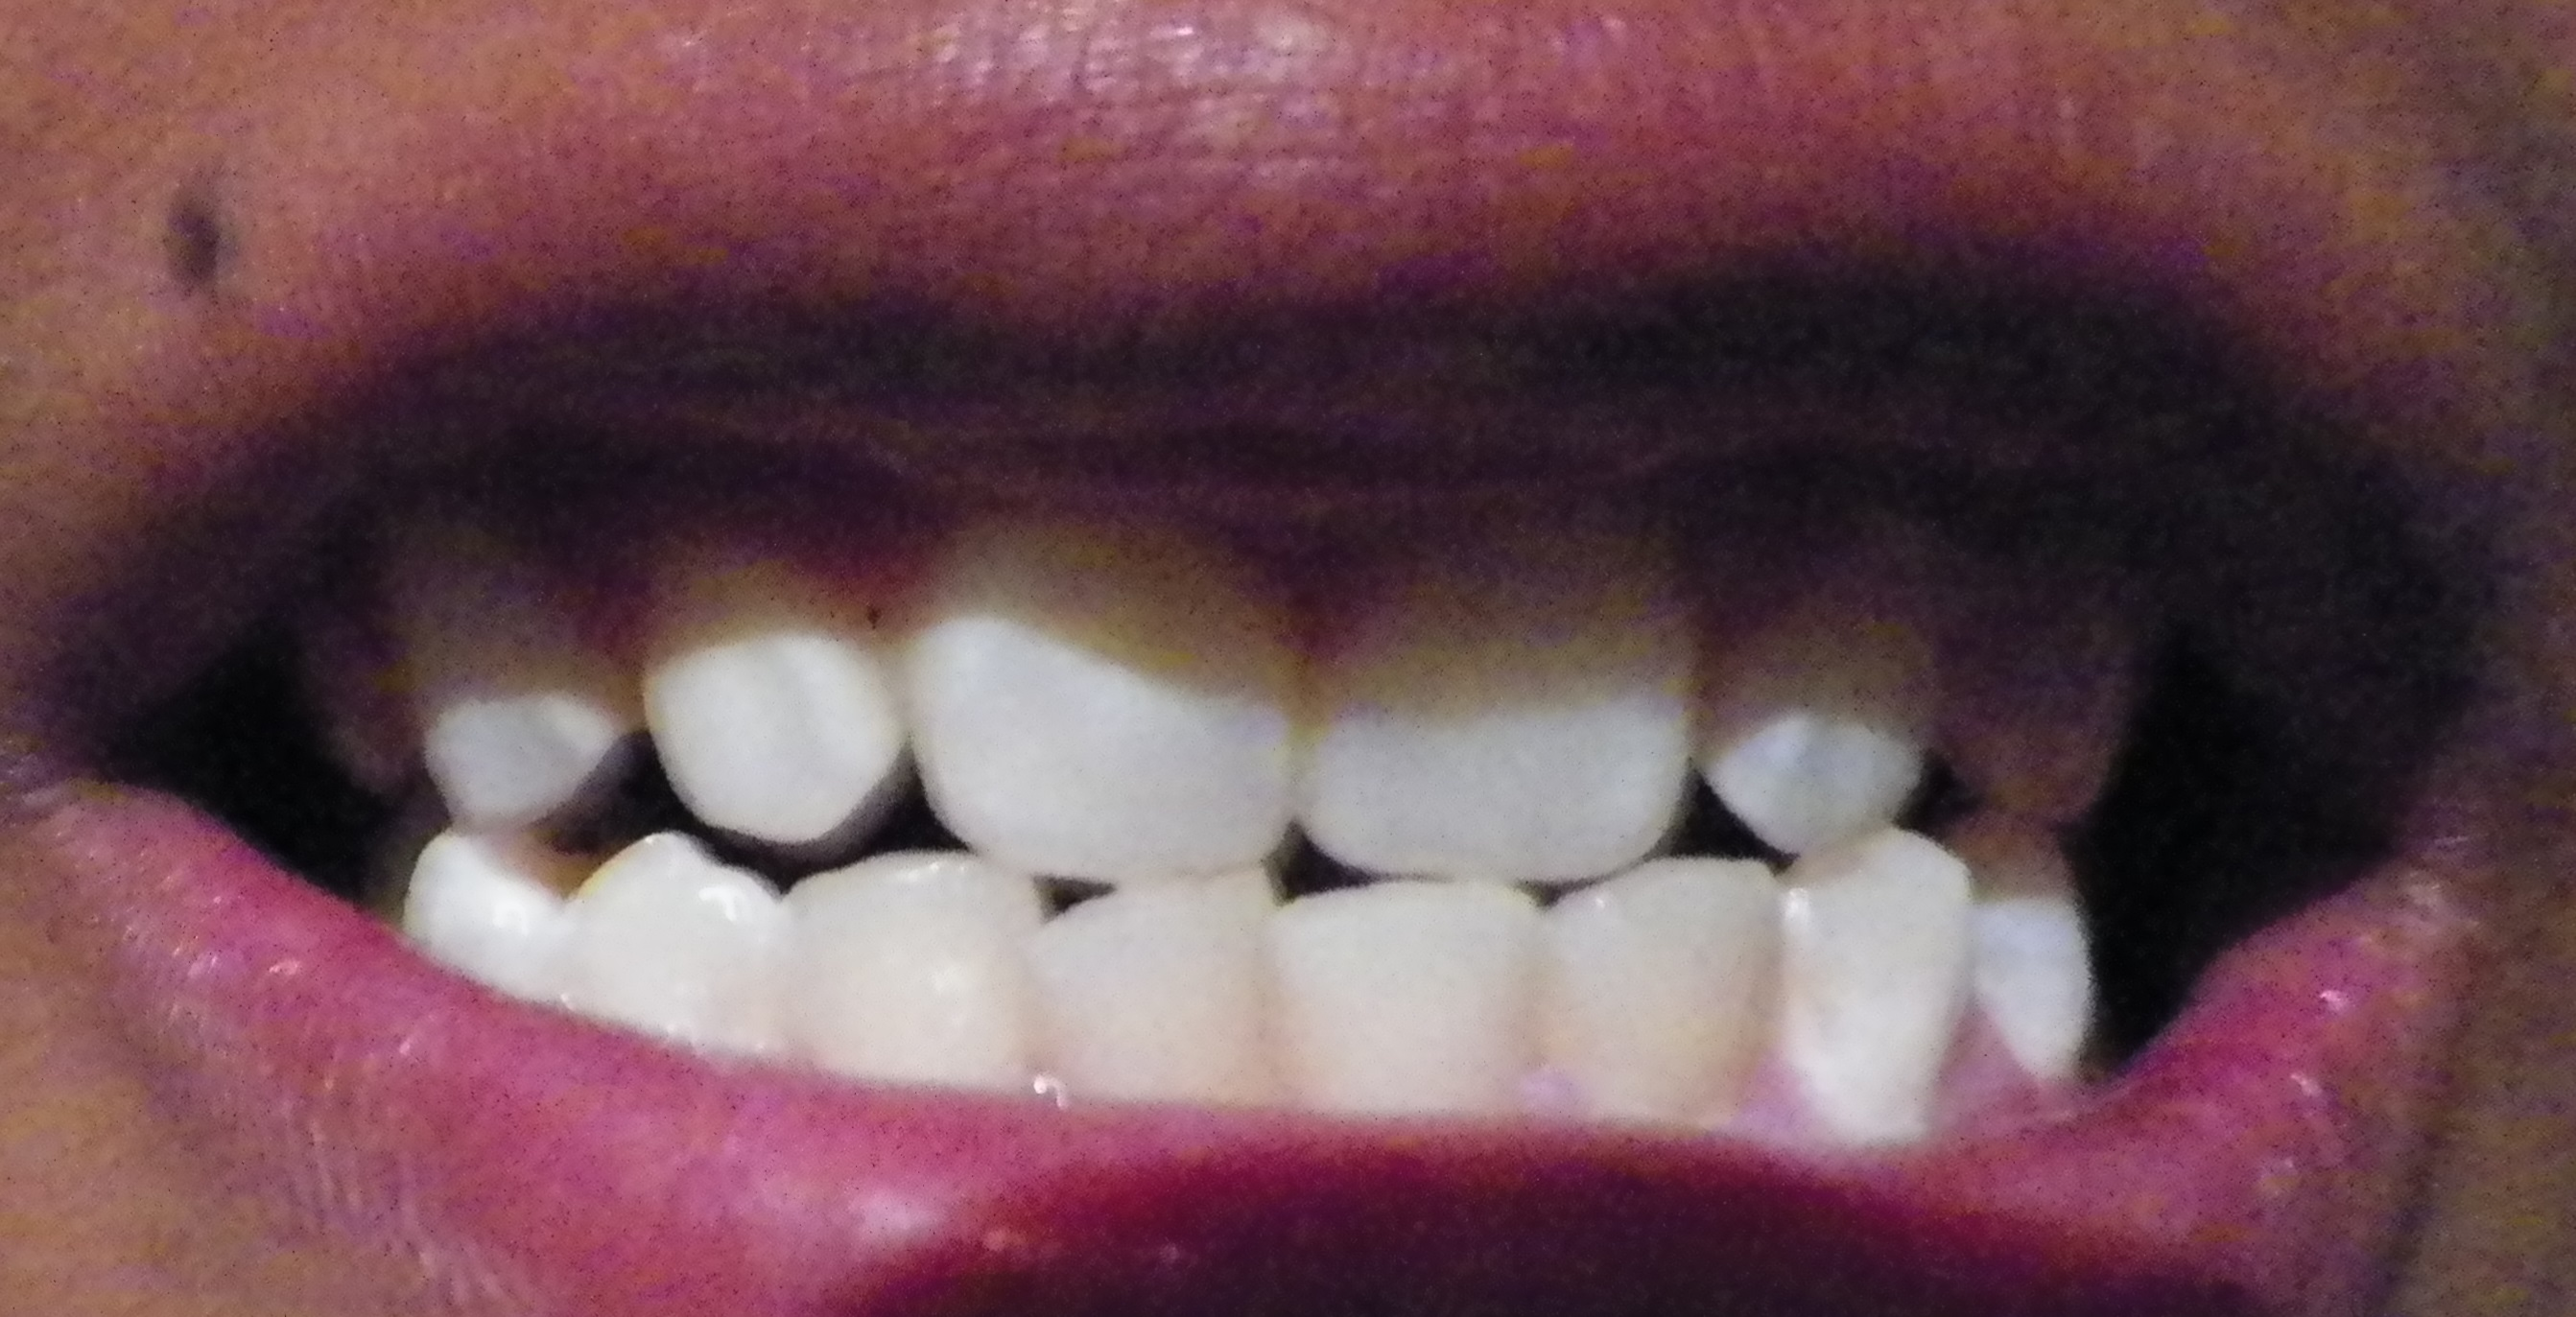boca: (364, 447, 2181, 1075)
